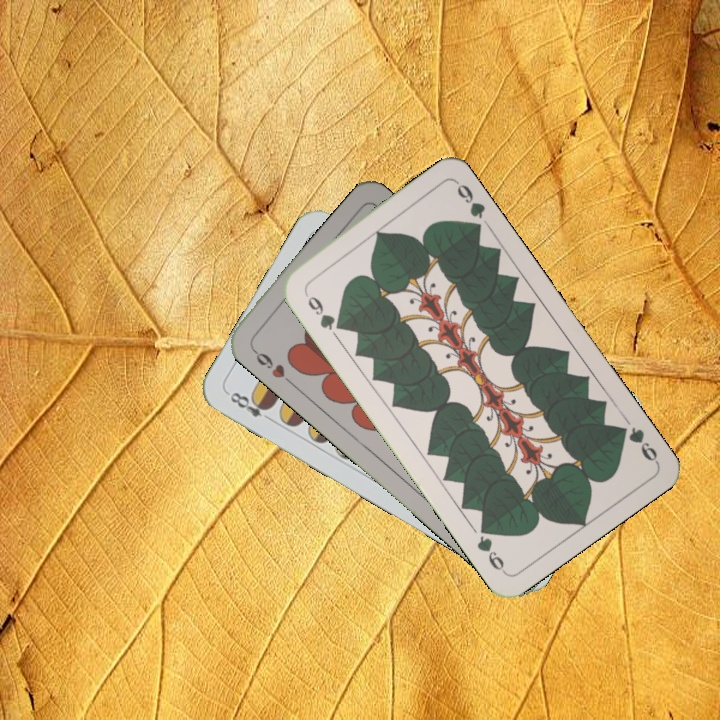E8: (226, 387, 276, 425)
G9: (612, 421, 661, 466), (300, 287, 346, 333)
H9: (247, 343, 296, 387)
